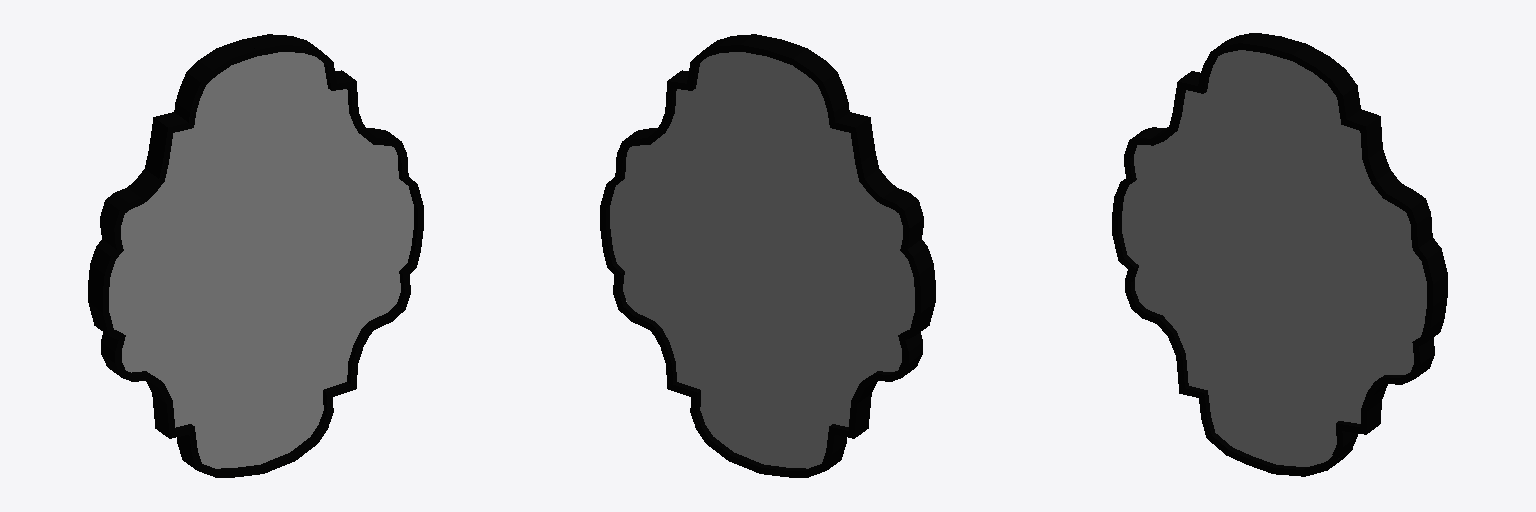
File: Mirror3_515.obj
3 renders of one model, left to right at view 1: azimuth 30°, elevation 25°; view 2: azimuth 150°, elevation 25°; view 3: azimuth 330°, elevation 25°, orthographic.
Visible parts, largest first — view 1: Line006; view 2: Line006; view 3: Line006.
Boxes of the visible parts, x1=… form: Line006: x1=88, y1=34, x2=423, y2=477; Line006: x1=600, y1=34, x2=935, y2=477; Line006: x1=1112, y1=33, x2=1447, y2=476.
Bounding box in the file's own units: 25.7 × 32.54 × 2.01.